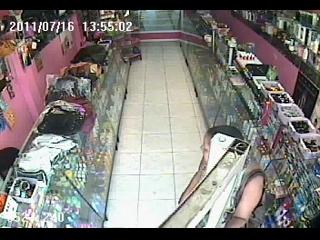Normal: (166, 125, 268, 226)
